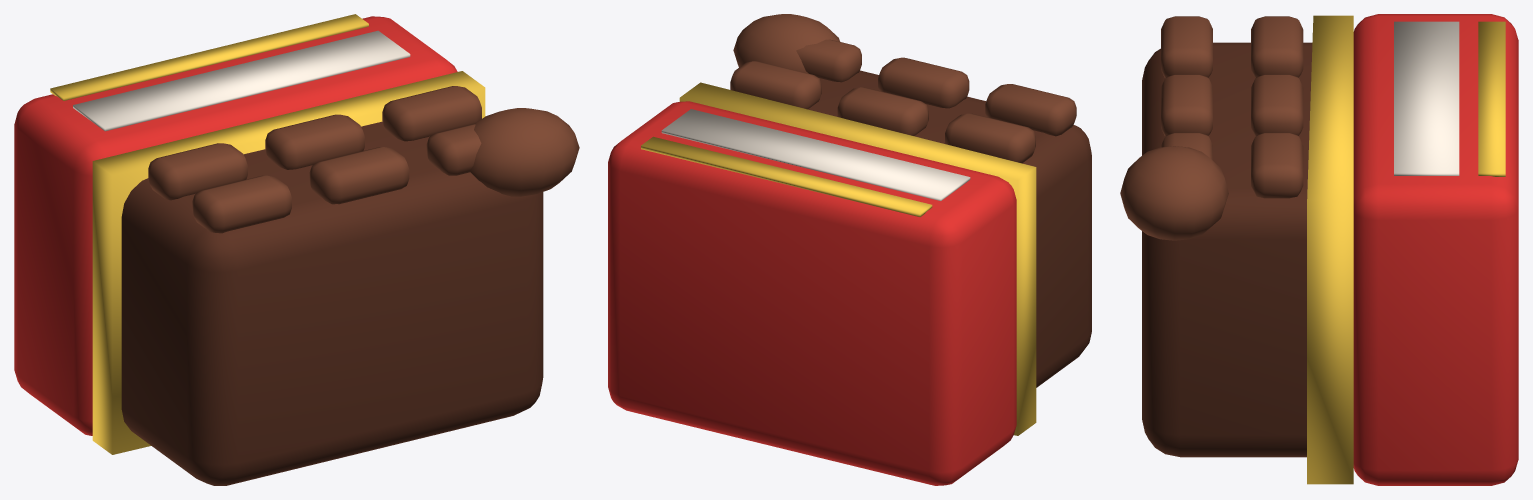
The model's file is tb_mat_sjoko.glb.
The picture shows the model from 3 angles, left to right: view 1: azimuth 30°, elevation 25°; view 2: azimuth 150°, elevation 25°; view 3: azimuth 270°, elevation 25°; orthographic projection. The views are drawn at different scales.
Visible parts, largest first — view 1: matkropp; view 2: matkropp; view 3: matkropp.
Boxes of the visible parts, x1=… form: matkropp: x1=14, y1=14, x2=579, y2=485; matkropp: x1=608, y1=14, x2=1091, y2=485; matkropp: x1=1120, y1=14, x2=1518, y2=485.
Size of the model in its own units: 0.865 by 0.6525 by 0.733.
